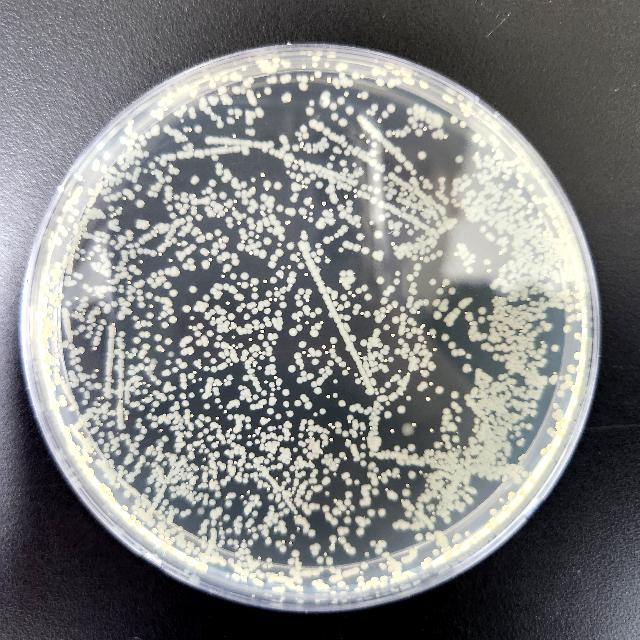colony: (402, 424, 414, 436), (212, 202, 224, 214), (318, 98, 332, 108), (432, 114, 443, 126), (170, 266, 180, 278), (314, 220, 326, 230), (210, 508, 220, 520), (290, 182, 302, 192), (157, 521, 167, 531), (279, 134, 289, 144), (52, 268, 62, 278), (140, 220, 150, 230), (320, 90, 330, 100), (371, 66, 381, 76), (371, 130, 381, 140), (281, 93, 291, 103), (452, 532, 462, 542), (345, 106, 355, 116), (462, 363, 472, 373), (386, 103, 396, 113), (417, 150, 427, 160), (274, 248, 284, 258), (228, 284, 238, 294), (432, 310, 442, 320), (321, 476, 331, 486), (228, 72, 238, 82), (361, 247, 372, 256), (553, 409, 563, 418), (248, 96, 258, 105), (184, 149, 193, 159), (458, 244, 467, 254), (420, 369, 430, 378), (464, 312, 474, 321), (478, 306, 487, 316), (196, 234, 206, 243), (198, 102, 208, 111), (233, 293, 244, 301), (324, 188, 336, 195), (441, 414, 453, 421), (244, 116, 253, 125), (256, 109, 264, 119), (493, 122, 503, 130), (436, 538, 446, 546), (466, 214, 476, 222), (218, 86, 228, 94), (440, 333, 450, 341), (190, 176, 200, 184), (400, 522, 410, 530), (374, 252, 384, 260), (298, 83, 308, 91), (386, 491, 396, 499), (357, 150, 365, 160), (308, 120, 318, 128), (316, 122, 324, 132), (404, 162, 414, 170), (374, 230, 384, 238), (373, 172, 381, 182), (402, 499, 410, 509), (544, 322, 552, 332), (369, 148, 377, 158), (566, 365, 576, 373), (338, 118, 348, 126), (136, 200, 146, 208), (366, 509, 376, 517), (414, 533, 424, 541), (472, 134, 482, 142), (240, 272, 250, 280), (182, 305, 192, 313), (262, 180, 272, 188), (296, 172, 304, 182), (289, 207, 297, 217), (298, 208, 308, 216), (286, 276, 296, 284), (288, 328, 298, 336), (200, 248, 210, 256), (202, 260, 210, 270), (237, 242, 245, 252), (259, 249, 267, 259), (226, 198, 234, 208), (302, 304, 312, 312), (339, 210, 347, 220), (352, 244, 362, 252), (356, 233, 366, 241), (342, 240, 350, 250), (380, 296, 388, 306), (438, 304, 448, 312), (221, 74, 229, 84), (215, 506, 223, 516), (446, 422, 454, 432), (330, 290, 338, 300), (157, 245, 166, 253), (409, 287, 418, 295), (433, 120, 442, 128), (398, 244, 407, 252), (448, 341, 457, 349), (378, 540, 387, 548), (419, 81, 428, 89), (352, 72, 361, 80), (306, 106, 314, 115), (54, 237, 62, 246), (402, 489, 411, 497), (204, 106, 212, 115), (329, 517, 338, 525), (301, 502, 309, 511), (443, 550, 452, 558), (272, 227, 280, 236), (466, 399, 476, 406), (162, 369, 172, 376), (338, 160, 348, 167), (173, 218, 180, 228), (330, 198, 340, 205), (166, 204, 174, 212), (441, 298, 449, 306), (490, 329, 498, 337), (338, 536, 346, 544), (370, 473, 378, 481), (374, 336, 382, 344), (120, 306, 128, 314), (504, 391, 512, 399), (496, 408, 504, 416), (383, 142, 391, 150), (442, 278, 450, 286), (304, 142, 312, 150), (413, 522, 421, 530), (284, 74, 292, 82), (313, 386, 321, 394), (243, 80, 251, 88), (232, 87, 240, 95), (390, 174, 398, 182), (428, 364, 436, 372), (436, 531, 444, 539), (412, 180, 420, 188), (480, 372, 488, 380), (396, 252, 404, 260), (450, 424, 458, 432), (441, 434, 449, 442), (452, 179, 460, 187), (316, 377, 324, 385), (343, 542, 351, 550), (329, 132, 337, 140), (363, 496, 371, 504), (329, 535, 337, 543), (420, 382, 428, 390), (142, 234, 150, 242), (376, 250, 384, 258), (444, 442, 452, 450), (402, 376, 410, 384), (372, 338, 380, 346), (46, 305, 54, 313), (376, 276, 384, 284), (343, 516, 351, 524), (518, 344, 526, 352), (488, 234, 496, 242), (403, 160, 411, 168), (462, 250, 470, 258), (407, 504, 415, 512), (403, 76, 411, 84), (227, 117, 235, 125), (335, 64, 343, 72), (446, 222, 454, 230), (384, 411, 392, 419), (118, 235, 126, 243), (270, 76, 278, 84), (408, 444, 416, 452), (390, 492, 398, 500), (348, 547, 356, 555), (110, 194, 118, 202), (406, 274, 414, 282), (118, 342, 126, 350), (134, 322, 142, 330), (356, 115, 364, 123), (540, 378, 548, 386), (538, 312, 546, 320), (408, 546, 416, 554), (136, 150, 144, 158), (332, 78, 340, 86), (470, 387, 478, 395), (370, 478, 378, 486), (370, 196, 378, 204), (395, 153, 403, 161), (378, 214, 386, 222), (469, 487, 477, 495), (486, 232, 494, 240), (109, 166, 117, 174), (360, 562, 368, 570), (398, 406, 406, 414), (376, 163, 384, 171), (451, 391, 459, 399), (301, 75, 309, 83), (552, 218, 560, 226), (394, 222, 402, 230), (525, 322, 533, 330), (530, 400, 538, 408), (343, 498, 351, 506), (356, 527, 364, 535), (103, 306, 111, 314), (414, 263, 422, 271), (472, 154, 480, 162), (504, 362, 512, 370), (129, 264, 137, 272), (393, 374, 401, 382), (176, 110, 184, 118), (194, 125, 202, 133), (436, 386, 444, 394), (419, 106, 427, 114), (151, 128, 159, 136), (388, 172, 396, 180), (490, 281, 498, 289), (556, 302, 564, 310), (469, 190, 477, 198), (94, 382, 102, 390), (443, 516, 451, 524), (322, 128, 330, 136), (416, 502, 424, 510), (117, 313, 125, 321), (122, 188, 130, 196), (369, 159, 377, 167), (150, 110, 158, 118), (168, 153, 176, 161), (400, 130, 408, 138), (409, 176, 417, 184), (134, 268, 142, 276), (398, 155, 406, 163), (408, 471, 416, 479), (177, 151, 185, 159), (345, 490, 353, 498), (100, 285, 108, 293), (375, 316, 383, 324), (337, 97, 345, 105), (404, 510, 412, 518), (438, 176, 446, 184), (489, 134, 497, 142), (329, 103, 337, 111), (331, 113, 339, 121), (133, 336, 141, 344), (387, 80, 395, 88), (563, 325, 571, 333), (361, 91, 369, 99), (394, 165, 402, 173), (378, 508, 386, 516), (478, 139, 486, 147), (551, 344, 559, 352), (381, 111, 389, 119), (376, 78, 384, 86), (134, 184, 142, 192), (415, 129, 423, 137), (455, 155, 463, 163), (450, 116, 458, 124), (209, 179, 217, 187), (210, 193, 218, 201), (219, 192, 227, 200), (230, 272, 238, 280), (189, 285, 197, 293), (244, 110, 252, 118), (248, 129, 256, 137), (292, 144, 300, 152), (215, 162, 223, 170), (221, 176, 229, 184), (234, 190, 242, 198), (241, 198, 249, 206), (247, 206, 255, 214), (232, 210, 240, 218), (235, 213, 243, 221), (226, 216, 234, 224), (174, 202, 182, 210), (206, 232, 214, 240), (212, 242, 220, 250), (211, 248, 219, 256), (188, 264, 196, 272), (219, 242, 227, 250), (232, 258, 240, 266), (224, 264, 232, 272), (251, 278, 259, 286), (170, 289, 178, 297), (164, 281, 172, 289), (270, 276, 278, 284), (260, 194, 268, 202), (274, 182, 282, 190), (276, 204, 284, 212), (290, 196, 298, 204), (304, 198, 312, 206), (264, 237, 272, 245), (286, 242, 294, 250), (290, 253, 298, 261), (222, 252, 230, 260), (270, 254, 278, 262), (268, 261, 276, 269), (255, 226, 263, 234), (278, 234, 286, 242), (184, 247, 192, 255), (190, 198, 198, 206), (267, 202, 275, 210), (252, 202, 260, 210), (228, 313, 236, 321), (230, 322, 238, 330), (194, 330, 202, 338), (291, 312, 299, 320), (314, 322, 322, 330), (310, 329, 318, 337), (299, 340, 307, 348), (157, 269, 165, 277), (150, 282, 158, 290), (154, 334, 162, 342), (180, 382, 188, 390), (180, 348, 188, 356), (187, 346, 195, 354), (207, 376, 215, 384), (242, 374, 250, 382), (169, 315, 177, 323), (152, 400, 160, 408), (156, 392, 164, 400), (282, 388, 290, 396), (210, 421, 218, 429), (215, 378, 223, 386), (286, 410, 294, 418), (288, 365, 296, 373), (307, 372, 315, 380), (305, 401, 313, 409), (294, 352, 302, 360), (312, 358, 320, 366), (248, 372, 256, 380), (214, 490, 222, 498), (314, 256, 322, 264), (316, 248, 324, 256), (316, 181, 324, 189), (306, 166, 314, 174), (346, 206, 354, 214), (337, 204, 345, 212), (326, 162, 334, 170), (353, 214, 361, 222), (321, 209, 329, 217), (328, 218, 336, 226), (341, 225, 349, 233), (337, 229, 345, 237), (323, 236, 331, 244), (391, 300, 399, 308), (322, 504, 330, 512), (339, 269, 347, 277), (347, 269, 355, 277), (316, 556, 324, 564), (328, 566, 336, 574), (312, 568, 320, 576), (339, 504, 347, 512), (308, 529, 316, 537), (292, 549, 300, 557), (314, 542, 322, 550), (311, 548, 319, 556), (356, 190, 364, 198), (252, 532, 260, 540), (198, 507, 206, 515), (238, 547, 246, 555), (162, 498, 170, 506), (308, 502, 316, 510), (448, 287, 456, 295), (501, 504, 509, 512), (540, 448, 548, 456), (278, 226, 286, 234), (314, 274, 322, 282), (235, 109, 243, 117), (339, 78, 348, 85), (400, 556, 410, 562), (210, 155, 220, 161), (199, 149, 205, 159), (288, 271, 298, 277), (205, 196, 211, 206), (178, 362, 188, 368), (332, 506, 338, 516), (326, 556, 332, 566), (420, 562, 430, 568), (230, 357, 240, 363), (272, 57, 282, 63), (442, 408, 452, 414), (440, 420, 450, 426), (326, 512, 332, 522), (156, 276, 162, 286), (78, 416, 85, 424), (226, 98, 234, 105), (156, 108, 164, 115), (414, 302, 421, 310), (404, 183, 412, 190), (115, 192, 122, 200), (152, 125, 160, 132), (430, 240, 438, 247), (399, 314, 406, 322), (489, 186, 496, 194), (389, 148, 396, 156), (497, 238, 505, 245), (108, 222, 115, 230), (439, 208, 446, 216), (454, 178, 462, 185), (448, 504, 456, 511), (125, 126, 132, 134), (78, 346, 85, 354), (464, 206, 471, 214), (442, 95, 450, 102), (389, 452, 396, 460), (428, 228, 436, 235), (419, 113, 426, 121), (534, 354, 542, 361), (450, 349, 458, 356), (480, 344, 488, 351), (72, 210, 80, 217), (516, 439, 524, 446), (159, 160, 167, 167), (349, 334, 356, 342), (349, 405, 356, 413), (78, 324, 85, 332), (128, 193, 136, 200), (564, 374, 572, 381), (360, 339, 368, 346), (494, 344, 502, 351), (484, 154, 491, 162), (163, 125, 170, 133), (338, 399, 346, 406), (492, 354, 500, 361), (479, 225, 487, 232), (459, 120, 466, 128), (205, 186, 212, 194), (224, 173, 232, 180), (218, 210, 226, 217), (195, 214, 202, 222), (222, 235, 230, 242), (214, 230, 222, 237), (179, 208, 187, 215), (170, 212, 177, 220), (186, 215, 194, 222), (188, 193, 196, 200), (203, 294, 210, 302), (248, 188, 256, 195), (268, 195, 276, 202), (248, 223, 256, 230), (246, 218, 254, 225), (240, 233, 248, 240), (250, 243, 258, 250), (210, 200, 217, 208), (273, 220, 281, 227), (300, 233, 308, 240), (198, 322, 205, 330), (206, 329, 214, 336), (188, 372, 195, 380), (185, 430, 192, 438), (182, 399, 190, 406), (180, 392, 187, 400), (213, 450, 220, 458), (210, 498, 217, 506), (180, 340, 187, 348), (300, 165, 308, 172), (345, 213, 353, 220), (344, 300, 351, 308), (434, 440, 441, 448), (344, 314, 351, 322), (210, 81, 217, 89), (352, 424, 360, 431), (202, 339, 210, 346), (388, 286, 397, 292), (338, 581, 347, 587), (102, 487, 111, 493), (484, 344, 491, 351), (61, 399, 68, 406), (374, 188, 381, 195), (429, 253, 436, 260), (215, 170, 222, 177), (190, 243, 197, 250), (235, 183, 242, 190), (230, 434, 237, 441), (225, 499, 232, 506), (429, 278, 437, 284), (358, 452, 366, 458), (399, 325, 405, 333), (412, 204, 420, 210), (150, 272, 158, 278), (180, 510, 186, 518), (166, 194, 172, 202), (530, 369, 538, 375), (68, 247, 76, 253), (334, 136, 342, 142), (470, 438, 478, 444), (107, 360, 113, 368), (521, 222, 529, 228), (363, 156, 371, 162), (410, 524, 418, 530), (536, 388, 544, 394), (461, 198, 467, 206), (396, 388, 404, 394), (150, 422, 158, 428), (371, 360, 377, 368), (508, 225, 514, 233), (283, 62, 291, 68), (410, 365, 418, 371), (144, 398, 152, 404), (338, 528, 344, 536), (352, 567, 360, 573), (406, 318, 414, 324), (468, 329, 476, 335), (496, 324, 502, 332), (508, 492, 516, 498), (376, 452, 382, 460), (47, 329, 53, 337), (334, 422, 342, 428), (334, 356, 342, 362), (82, 232, 90, 238), (329, 338, 337, 344), (342, 81, 348, 89), (520, 220, 526, 228), (67, 244, 73, 252), (382, 290, 390, 296), (482, 215, 490, 221), (396, 520, 404, 526), (216, 122, 224, 128), (432, 300, 440, 306), (360, 284, 368, 290), (459, 102, 465, 110), (396, 459, 404, 465), (280, 75, 286, 83), (424, 496, 430, 504), (496, 452, 504, 458), (180, 136, 188, 142), (462, 478, 470, 484), (146, 312, 154, 318), (69, 394, 75, 402), (145, 292, 153, 298), (64, 318, 70, 326), (570, 385, 578, 391), (157, 170, 163, 178), (74, 365, 82, 371), (138, 352, 144, 360), (106, 352, 114, 358), (108, 325, 116, 331), (126, 147, 134, 153), (576, 366, 584, 372), (408, 364, 414, 372), (100, 254, 106, 262), (140, 494, 148, 500), (332, 147, 340, 153), (468, 436, 476, 442), (546, 428, 554, 434), (438, 128, 444, 136), (103, 262, 111, 268), (412, 270, 420, 276), (164, 192, 172, 198), (566, 304, 572, 312), (462, 494, 470, 500), (528, 350, 536, 356), (119, 296, 125, 304), (468, 254, 476, 260), (90, 196, 96, 204), (498, 267, 506, 273), (342, 472, 348, 480), (500, 280, 508, 286), (366, 388, 374, 394), (395, 130, 401, 138), (138, 302, 146, 308), (418, 521, 426, 527), (488, 336, 496, 342), (136, 222, 142, 230), (466, 178, 472, 186), (342, 430, 348, 438), (164, 186, 172, 192), (384, 212, 392, 218), (392, 316, 398, 324), (104, 270, 110, 278), (524, 166, 530, 174), (118, 424, 126, 430), (134, 167, 142, 173), (180, 105, 188, 111), (160, 154, 168, 160), (146, 278, 154, 284), (550, 377, 556, 385), (80, 302, 88, 308), (522, 402, 530, 408), (263, 88, 271, 94), (69, 405, 77, 411), (545, 198, 551, 206), (120, 250, 128, 256), (375, 548, 383, 554), (566, 381, 574, 387), (108, 331, 116, 337), (359, 499, 365, 507), (392, 468, 400, 474), (358, 521, 366, 527), (466, 498, 474, 504), (382, 552, 390, 558), (450, 402, 458, 408), (576, 313, 582, 321), (299, 126, 307, 132), (314, 72, 322, 78), (378, 200, 384, 208), (340, 142, 348, 148), (538, 348, 546, 354), (371, 378, 377, 386), (458, 348, 464, 356), (492, 140, 500, 146), (554, 262, 562, 268), (362, 490, 370, 496), (143, 344, 151, 350), (392, 230, 400, 236), (524, 378, 532, 384), (510, 378, 518, 384), (408, 228, 414, 236), (552, 403, 560, 409), (116, 336, 124, 342), (574, 352, 580, 360), (536, 326, 544, 332), (574, 332, 580, 340), (452, 436, 460, 442), (120, 136, 126, 144), (354, 378, 362, 384), (486, 346, 494, 352), (392, 522, 400, 528), (483, 259, 491, 265), (132, 132, 138, 140), (140, 140, 148, 146), (144, 132, 152, 138), (371, 104, 379, 110), (422, 179, 430, 185), (104, 152, 110, 160), (412, 122, 418, 130), (466, 266, 472, 274), (148, 162, 156, 168), (478, 316, 484, 324), (408, 116, 414, 124), (436, 250, 444, 256), (406, 108, 414, 114), (252, 292, 258, 300), (241, 282, 249, 288), (222, 284, 230, 290), (236, 306, 244, 312), (246, 302, 252, 310), (210, 288, 218, 294), (251, 111, 257, 119), (268, 141, 274, 149), (269, 148, 275, 156), (274, 150, 280, 158), (284, 143, 290, 151), (240, 182, 248, 188), (226, 223, 234, 229), (204, 206, 212, 212), (190, 210, 198, 216), (183, 262, 189, 270), (232, 252, 238, 260), (266, 290, 272, 298), (214, 284, 222, 290), (214, 290, 222, 296), (260, 204, 266, 212), (186, 222, 194, 228), (180, 218, 186, 226), (182, 240, 188, 248), (194, 150, 200, 158), (290, 172, 296, 180), (274, 290, 280, 298), (279, 302, 287, 308), (274, 310, 282, 316), (295, 300, 303, 306), (306, 288, 312, 296), (296, 324, 302, 332), (193, 304, 199, 312), (202, 302, 210, 308), (216, 256, 222, 264), (256, 240, 262, 248), (253, 248, 259, 256), (245, 244, 251, 252), (276, 270, 284, 276), (256, 220, 264, 226), (180, 230, 186, 238), (184, 227, 192, 233), (201, 197, 207, 205), (180, 192, 188, 198), (183, 196, 189, 204), (262, 217, 270, 223), (269, 214, 277, 220), (310, 252, 318, 258), (298, 262, 304, 270), (231, 177, 239, 183), (230, 182, 236, 190), (265, 321, 273, 327), (245, 324, 253, 330), (214, 305, 222, 311), (216, 318, 224, 324), (216, 335, 224, 341), (221, 308, 227, 316), (262, 341, 270, 347), (265, 346, 273, 352), (160, 276, 168, 282), (165, 268, 171, 276), (172, 367, 180, 373), (150, 375, 158, 381), (150, 358, 158, 364), (226, 375, 234, 381), (210, 366, 218, 372), (240, 355, 248, 361), (260, 390, 268, 396), (234, 398, 240, 406), (247, 368, 255, 374), (244, 359, 252, 365), (212, 387, 220, 393), (161, 322, 169, 328), (160, 312, 168, 318), (166, 308, 174, 314), (162, 305, 170, 311), (160, 297, 166, 305), (283, 400, 289, 408), (260, 419, 268, 425), (244, 416, 252, 422), (173, 410, 179, 418), (166, 414, 174, 420), (159, 415, 167, 421), (294, 400, 302, 406), (207, 434, 213, 442), (249, 346, 255, 354), (300, 371, 308, 377), (297, 376, 303, 384), (302, 396, 310, 402), (296, 358, 302, 366), (311, 380, 317, 388), (252, 381, 260, 387), (200, 335, 208, 341), (216, 328, 224, 334), (264, 299, 270, 307), (254, 346, 262, 352), (267, 333, 273, 341), (276, 378, 282, 386), (269, 396, 277, 402), (213, 96, 219, 104), (209, 100, 217, 106), (345, 200, 353, 206), (284, 162, 292, 168), (326, 212, 334, 218), (318, 216, 324, 224), (324, 216, 330, 224), (326, 286, 332, 294), (364, 294, 372, 300), (353, 304, 361, 310), (340, 294, 348, 300), (344, 440, 352, 446), (338, 452, 346, 458), (348, 242, 354, 250), (417, 384, 423, 392), (328, 544, 336, 550), (380, 575, 388, 581), (371, 576, 379, 582), (353, 456, 361, 462), (287, 558, 295, 564), (230, 352, 238, 358), (214, 74, 220, 82), (183, 84, 191, 90), (247, 538, 253, 546), (223, 514, 231, 520), (221, 478, 227, 486), (210, 520, 218, 526), (186, 508, 192, 516), (268, 492, 274, 500), (170, 492, 178, 498), (200, 522, 208, 528), (200, 527, 208, 533), (266, 521, 274, 527), (245, 548, 251, 556), (240, 542, 248, 548), (279, 546, 287, 552), (276, 540, 282, 548), (304, 509, 312, 515), (272, 516, 278, 524), (281, 526, 287, 534), (277, 525, 285, 531), (262, 528, 270, 534), (277, 434, 283, 442), (436, 288, 444, 294), (410, 282, 418, 288), (412, 348, 420, 354), (446, 321, 454, 327), (453, 308, 461, 314), (422, 454, 430, 460), (418, 460, 426, 466), (303, 522, 311, 528), (418, 298, 424, 306), (517, 488, 523, 496), (402, 570, 410, 576), (288, 583, 296, 589), (550, 430, 556, 438), (258, 572, 266, 578), (40, 304, 46, 312), (272, 63, 280, 69), (236, 74, 242, 82), (343, 322, 349, 330), (316, 280, 324, 286), (234, 528, 242, 534), (249, 573, 257, 579), (409, 308, 416, 314), (439, 426, 446, 432), (379, 563, 386, 569), (394, 278, 401, 284), (146, 233, 152, 240), (414, 243, 421, 249), (52, 358, 59, 364), (484, 408, 491, 414), (494, 474, 501, 480), (518, 240, 524, 247), (94, 245, 100, 252), (95, 310, 102, 316), (489, 508, 496, 514), (474, 215, 481, 221), (140, 349, 146, 356), (531, 409, 537, 416), (139, 364, 145, 371), (379, 307, 386, 313), (88, 384, 95, 390), (190, 113, 197, 119), (476, 334, 482, 341), (386, 469, 392, 476), (374, 416, 381, 422), (124, 489, 130, 496), (379, 388, 386, 394), (408, 78, 414, 85), (384, 203, 391, 209), (228, 109, 235, 115), (469, 336, 476, 342), (474, 418, 481, 424), (424, 256, 431, 262), (367, 185, 373, 192), (359, 460, 366, 466), (126, 173, 132, 180), (558, 389, 564, 396), (54, 262, 61, 268), (439, 193, 445, 200), (451, 190, 457, 197), (138, 238, 144, 245), (528, 183, 534, 190), (374, 310, 381, 316), (369, 540, 376, 546), (165, 176, 172, 182), (98, 301, 105, 307), (115, 226, 122, 232), (443, 198, 449, 205), (374, 328, 381, 334), (384, 324, 391, 330), (396, 78, 402, 85), (386, 193, 392, 200), (211, 115, 217, 122), (223, 169, 230, 175), (173, 194, 180, 200), (188, 258, 195, 264), (213, 294, 220, 300), (240, 228, 247, 234), (171, 238, 177, 245), (292, 163, 298, 170), (304, 178, 310, 185), (310, 173, 316, 180), (284, 208, 290, 215), (200, 307, 207, 313), (192, 230, 198, 237), (250, 200, 256, 207), (243, 314, 250, 320), (316, 349, 322, 356), (165, 338, 172, 344), (168, 351, 175, 357), (150, 364, 156, 371), (203, 352, 210, 358), (203, 366, 210, 372), (198, 414, 205, 420), (180, 372, 187, 378), (242, 349, 248, 356), (196, 339, 202, 346), (245, 440, 252, 446), (210, 462, 217, 468), (200, 96, 207, 102), (334, 457, 341, 463), (336, 499, 342, 506), (361, 183, 367, 190), (248, 78, 255, 84), (225, 528, 232, 534), (170, 486, 177, 492), (353, 180, 359, 187), (342, 183, 348, 190), (233, 444, 240, 450), (454, 544, 461, 550), (422, 349, 428, 356), (187, 444, 193, 451), (232, 428, 242, 432), (502, 476, 508, 482), (412, 453, 418, 459), (490, 455, 496, 461), (358, 170, 364, 176), (101, 253, 107, 259), (100, 268, 106, 274), (447, 485, 453, 491), (528, 384, 534, 390), (369, 451, 375, 457), (415, 115, 421, 121), (544, 252, 550, 258), (363, 362, 369, 368), (371, 425, 377, 431), (510, 330, 516, 336), (531, 366, 537, 372), (105, 304, 111, 310), (393, 208, 399, 214), (503, 354, 509, 360), (124, 308, 130, 314), (386, 304, 392, 310), (74, 349, 80, 355), (495, 222, 501, 228), (508, 208, 514, 214), (514, 292, 520, 298), (519, 364, 525, 370), (528, 362, 534, 368), (478, 335, 484, 341), (423, 300, 429, 306), (118, 352, 124, 358), (91, 262, 97, 268), (353, 355, 359, 361), (154, 169, 160, 175), (437, 134, 443, 140), (322, 373, 328, 379), (152, 502, 158, 508), (54, 372, 60, 378), (124, 302, 130, 308), (368, 431, 374, 437), (146, 370, 152, 376), (465, 198, 471, 204), (55, 301, 61, 307), (485, 175, 491, 181), (125, 392, 131, 398), (498, 393, 504, 399), (526, 408, 532, 414), (358, 576, 364, 582), (336, 428, 342, 434), (521, 411, 527, 417), (402, 448, 408, 454), (452, 182, 458, 188), (512, 296, 518, 302), (489, 210, 495, 216), (152, 415, 158, 421), (120, 273, 126, 279), (55, 353, 61, 359), (66, 325, 72, 331), (377, 354, 383, 360), (352, 432, 358, 438), (496, 460, 502, 466), (526, 332, 532, 338), (135, 520, 141, 526), (479, 190, 485, 196), (64, 281, 70, 287), (334, 84, 340, 90), (461, 254, 467, 260), (130, 287, 136, 293), (346, 346, 352, 352), (412, 196, 418, 202), (570, 314, 576, 320), (426, 478, 432, 484), (70, 352, 76, 358), (537, 384, 543, 390), (538, 386, 544, 392), (512, 202, 518, 208), (168, 168, 174, 174), (121, 266, 127, 272), (137, 462, 143, 468), (340, 362, 346, 368), (152, 528, 158, 534), (118, 373, 124, 379), (474, 151, 480, 157), (319, 368, 325, 374), (351, 349, 357, 355), (398, 192, 404, 198), (535, 228, 541, 234), (460, 501, 466, 507), (64, 427, 70, 433), (327, 360, 333, 366), (140, 456, 146, 462), (110, 446, 116, 452), (134, 436, 140, 442), (372, 332, 378, 338), (138, 434, 144, 440), (545, 207, 551, 213), (342, 64, 348, 70), (464, 394, 470, 400), (173, 168, 179, 174), (350, 504, 356, 510), (392, 177, 398, 183), (513, 390, 519, 396), (430, 535, 436, 541), (458, 490, 464, 496), (413, 104, 419, 110), (426, 532, 432, 538), (81, 375, 87, 381), (312, 56, 318, 62), (296, 75, 302, 81), (150, 250, 156, 256), (134, 282, 140, 288), (486, 474, 492, 480), (493, 154, 499, 160), (435, 510, 441, 516), (370, 462, 376, 468), (380, 349, 386, 355), (522, 471, 528, 477), (438, 227, 444, 233), (132, 504, 138, 510), (504, 440, 510, 446), (77, 187, 83, 193), (493, 308, 499, 314), (538, 361, 544, 367), (63, 312, 69, 318), (406, 252, 412, 258), (44, 317, 50, 323), (54, 402, 60, 408), (117, 406, 123, 412), (490, 460, 496, 466), (96, 459, 102, 465), (400, 350, 406, 356), (452, 218, 458, 224), (460, 106, 466, 112), (133, 450, 139, 456), (444, 510, 450, 516), (344, 528, 350, 534), (368, 353, 374, 359), (406, 72, 412, 78), (394, 270, 400, 276), (466, 191, 472, 197), (105, 382, 111, 388), (118, 242, 124, 248), (550, 302, 556, 308), (392, 244, 398, 250), (506, 338, 512, 344), (473, 424, 479, 430), (496, 160, 502, 166), (128, 370, 134, 376), (82, 226, 88, 232), (318, 146, 324, 152), (303, 133, 309, 139), (324, 62, 330, 68), (534, 394, 540, 400), (388, 224, 394, 230), (54, 279, 60, 285), (84, 394, 90, 400), (382, 349, 388, 355), (478, 472, 484, 478), (106, 422, 112, 428), (524, 394, 530, 400), (107, 394, 113, 400), (493, 171, 499, 177), (96, 262, 102, 268), (348, 428, 354, 434), (126, 290, 132, 296), (90, 214, 96, 220), (508, 216, 514, 222), (412, 218, 418, 224), (104, 442, 110, 448), (92, 208, 98, 214), (114, 278, 120, 284), (492, 382, 498, 388), (130, 514, 136, 520), (128, 477, 134, 483), (475, 380, 481, 386), (114, 364, 120, 370), (432, 549, 438, 555), (72, 382, 78, 388), (156, 173, 162, 179), (73, 198, 79, 204), (168, 130, 174, 136), (71, 280, 77, 286), (312, 62, 318, 68), (464, 530, 470, 536), (384, 381, 390, 387), (76, 422, 82, 428), (114, 436, 120, 442), (406, 332, 412, 338), (96, 182, 102, 188), (122, 272, 128, 278), (476, 163, 482, 169), (408, 186, 414, 192), (418, 200, 424, 206), (66, 200, 72, 206), (106, 370, 112, 376), (388, 220, 394, 226), (141, 320, 147, 326), (326, 369, 332, 375), (564, 290, 570, 296), (524, 245, 530, 251), (398, 330, 404, 336), (508, 370, 514, 376), (84, 391, 90, 397), (356, 516, 362, 522), (450, 198, 456, 204), (453, 494, 459, 500), (65, 276, 71, 282), (130, 402, 136, 408), (434, 204, 440, 210), (398, 380, 404, 386), (541, 358, 547, 364), (543, 197, 549, 203), (426, 111, 432, 117), (94, 160, 100, 166), (373, 366, 379, 372), (126, 380, 132, 386), (503, 346, 509, 352), (62, 206, 68, 212), (487, 376, 493, 382), (378, 136, 384, 142), (424, 488, 430, 494), (484, 382, 490, 388), (516, 213, 522, 219), (388, 188, 394, 194), (417, 329, 423, 335), (403, 342, 409, 348), (458, 506, 464, 512), (91, 428, 97, 434), (455, 416, 461, 422), (92, 340, 98, 346), (139, 280, 145, 286), (476, 173, 482, 179), (538, 254, 544, 260), (101, 167, 107, 173), (428, 523, 434, 529), (355, 146, 361, 152), (366, 484, 372, 490), (400, 206, 406, 212), (417, 496, 423, 502), (188, 143, 194, 149), (538, 218, 544, 224), (486, 314, 492, 320), (581, 307, 587, 313), (454, 501, 460, 507), (94, 336, 100, 342), (116, 209, 122, 215), (104, 472, 110, 478), (86, 381, 92, 387), (141, 428, 147, 434), (488, 220, 494, 226), (508, 273, 514, 279), (397, 178, 403, 184), (347, 414, 353, 420), (519, 210, 525, 216), (134, 382, 140, 388), (82, 283, 88, 289), (157, 115, 163, 121), (108, 286, 114, 292), (567, 316, 573, 322), (134, 442, 140, 448), (144, 366, 150, 372), (324, 143, 330, 149), (85, 422, 91, 428), (126, 309, 132, 315), (127, 236, 133, 242), (429, 504, 435, 510), (380, 472, 386, 478), (567, 297, 573, 303), (93, 164, 99, 170), (411, 327, 417, 333), (528, 343, 534, 349), (156, 183, 162, 189), (98, 438, 104, 444), (436, 504, 442, 510), (355, 404, 361, 410), (339, 72, 345, 78), (77, 366, 83, 372), (502, 192, 508, 198), (418, 336, 424, 342), (520, 370, 526, 376), (84, 208, 90, 214), (352, 150, 358, 156), (144, 332, 150, 338), (151, 185, 157, 191), (132, 347, 138, 353), (406, 127, 412, 133), (309, 100, 315, 106), (348, 80, 354, 86), (364, 311, 370, 317), (456, 407, 462, 413), (94, 230, 100, 236), (344, 150, 350, 156), (365, 518, 371, 524), (388, 181, 394, 187), (102, 414, 108, 420), (382, 366, 388, 372), (536, 198, 542, 204), (367, 472, 373, 478), (476, 368, 482, 374), (420, 234, 426, 240), (342, 370, 348, 376), (144, 357, 150, 363), (508, 260, 514, 266), (400, 186, 406, 192), (358, 408, 364, 414), (59, 226, 65, 232), (402, 353, 408, 359), (394, 445, 400, 451), (134, 400, 140, 406), (113, 219, 119, 225), (514, 158, 520, 164), (118, 159, 124, 165), (128, 139, 134, 145), (528, 216, 534, 222), (126, 230, 132, 236), (110, 410, 116, 416), (119, 172, 125, 178), (517, 166, 523, 172), (110, 420, 116, 426), (66, 269, 72, 275), (83, 296, 89, 302), (138, 296, 144, 302), (435, 190, 441, 196), (560, 384, 566, 390), (368, 336, 374, 342), (128, 295, 134, 301), (134, 242, 140, 248), (104, 452, 110, 458), (159, 178, 165, 184), (59, 394, 65, 400), (130, 386, 136, 392), (372, 488, 378, 494), (396, 197, 402, 203), (189, 107, 195, 113), (381, 70, 387, 76), (105, 376, 111, 382), (414, 224, 420, 230), (463, 260, 469, 266), (121, 165, 127, 171), (144, 248, 150, 254), (498, 153, 504, 159), (526, 208, 532, 214), (501, 287, 507, 293), (137, 248, 143, 254), (88, 188, 94, 194), (532, 330, 538, 336), (430, 516, 436, 522), (346, 478, 352, 484), (440, 185, 446, 191), (63, 341, 69, 347), (154, 156, 160, 162), (364, 409, 370, 415), (132, 177, 138, 183), (104, 196, 110, 202), (412, 255, 418, 261), (531, 195, 537, 201), (384, 344, 390, 350), (448, 98, 454, 104), (426, 118, 432, 124), (508, 188, 514, 194), (102, 238, 108, 244), (115, 482, 121, 488), (382, 477, 388, 483), (394, 70, 400, 76), (428, 124, 434, 130), (462, 174, 468, 180), (135, 160, 141, 166), (436, 221, 442, 227), (66, 300, 72, 306), (112, 301, 118, 307), (540, 320, 546, 326), (139, 405, 145, 411), (69, 370, 75, 376), (395, 147, 401, 153), (398, 338, 404, 344), (464, 111, 470, 117), (68, 216, 74, 222), (110, 240, 116, 246), (332, 392, 338, 398), (109, 252, 115, 258), (537, 211, 543, 217), (386, 130, 392, 136), (492, 202, 498, 208), (518, 182, 524, 188), (78, 274, 84, 280), (148, 191, 154, 197), (98, 325, 104, 331), (526, 423, 532, 429), (411, 170, 417, 176), (144, 151, 150, 157), (100, 319, 106, 325), (139, 135, 145, 141), (528, 202, 534, 208), (74, 330, 80, 336), (76, 357, 82, 363), (371, 142, 377, 148), (394, 348, 400, 354), (499, 356, 505, 362), (388, 356, 394, 362), (498, 374, 504, 380), (68, 343, 74, 349), (80, 248, 86, 254), (432, 132, 438, 138), (204, 403, 210, 409), (215, 398, 221, 404), (241, 303, 247, 309), (251, 302, 257, 308), (252, 308, 258, 314), (216, 115, 222, 121), (242, 213, 248, 219), (184, 204, 190, 210), (252, 286, 258, 292), (246, 192, 252, 198), (267, 208, 273, 214), (248, 231, 254, 237), (308, 217, 314, 223), (293, 192, 299, 198), (267, 227, 273, 233), (286, 286, 292, 292), (280, 288, 286, 294), (264, 308, 270, 314), (304, 294, 310, 300), (298, 288, 304, 294), (294, 294, 300, 300), (297, 311, 303, 317), (178, 256, 184, 262), (181, 251, 187, 257), (150, 230, 156, 236), (166, 241, 172, 247), (165, 234, 171, 240), (260, 211, 266, 217), (264, 221, 270, 227), (270, 219, 276, 225), (316, 243, 322, 249), (264, 200, 270, 206), (264, 316, 270, 322), (259, 323, 265, 329), (258, 334, 264, 340), (238, 342, 244, 348), (236, 326, 242, 332), (210, 309, 216, 315), (192, 326, 198, 332), (220, 315, 226, 321), (210, 320, 216, 326), (216, 308, 222, 314), (277, 325, 283, 331), (310, 312, 316, 318), (316, 308, 322, 314), (277, 316, 283, 322), (252, 352, 258, 358), (270, 356, 276, 362), (308, 347, 314, 353), (311, 351, 317, 357), (154, 296, 160, 302), (156, 345, 162, 351), (166, 360, 172, 366), (176, 358, 182, 364), (155, 380, 161, 386), (211, 358, 217, 364), (226, 358, 232, 364), (214, 342, 220, 348), (205, 416, 211, 422), (254, 438, 260, 444), (189, 392, 195, 398), (185, 408, 191, 414), (169, 406, 175, 412), (169, 394, 175, 400), (161, 396, 167, 402), (163, 386, 169, 392), (168, 385, 174, 391), (195, 362, 201, 368), (249, 356, 255, 362), (253, 394, 259, 400), (226, 404, 232, 410), (229, 401, 235, 407), (250, 404, 256, 410), (269, 382, 275, 388), (256, 386, 262, 392), (202, 394, 208, 400), (275, 414, 281, 420), (245, 423, 251, 429), (240, 414, 246, 420), (234, 413, 240, 419), (227, 414, 233, 420), (198, 422, 204, 428), (203, 428, 209, 434), (198, 432, 204, 438), (173, 419, 179, 425), (174, 424, 180, 430), (180, 424, 186, 430), (157, 418, 163, 424), (268, 408, 274, 414), (267, 426, 273, 432), (231, 442, 237, 448), (302, 376, 308, 382), (320, 408, 326, 414), (300, 394, 306, 400), (271, 369, 277, 375), (264, 370, 270, 376), (270, 364, 276, 370), (329, 348, 335, 354), (330, 353, 336, 359), (252, 376, 258, 382), (264, 458, 270, 464), (249, 452, 255, 458), (216, 460, 222, 466), (204, 448, 210, 454), (212, 442, 218, 448), (208, 452, 214, 458), (212, 469, 218, 475), (225, 475, 231, 481), (324, 490, 330, 496), (224, 320, 230, 326), (258, 301, 264, 307), (258, 306, 264, 312), (262, 399, 268, 405), (258, 400, 264, 406), (269, 400, 275, 406), (325, 258, 331, 264), (338, 247, 344, 253), (208, 96, 214, 102), (266, 78, 272, 84), (318, 172, 324, 178), (322, 174, 328, 180), (336, 184, 342, 190), (330, 155, 336, 161), (312, 148, 318, 154), (306, 148, 312, 154), (368, 220, 374, 226), (333, 232, 339, 238), (356, 288, 362, 294), (400, 306, 406, 312), (408, 296, 414, 302), (406, 302, 412, 308), (338, 304, 344, 310), (333, 301, 339, 307), (328, 312, 334, 318), (362, 356, 368, 362), (323, 468, 329, 474), (312, 468, 318, 474), (310, 472, 316, 478), (302, 448, 308, 454), (305, 495, 311, 501), (360, 443, 366, 449), (308, 419, 314, 425), (428, 360, 434, 366), (306, 452, 312, 458), (301, 442, 307, 448), (298, 440, 304, 446), (298, 432, 304, 438), (322, 440, 328, 446), (322, 428, 328, 434), (317, 427, 323, 433), (318, 566, 324, 572), (387, 566, 393, 572), (412, 516, 418, 522), (366, 580, 372, 586), (336, 568, 342, 574), (312, 580, 318, 586), (317, 578, 323, 584), (296, 585, 302, 591), (328, 456, 334, 462), (286, 477, 292, 483), (300, 483, 306, 489), (230, 348, 236, 354), (361, 192, 367, 198), (240, 88, 246, 94), (88, 233, 94, 239), (108, 181, 114, 187), (162, 436, 168, 442), (220, 534, 226, 540), (233, 539, 239, 545), (227, 538, 233, 544), (237, 515, 243, 521), (251, 526, 257, 532), (252, 510, 258, 516), (266, 434, 272, 440), (277, 463, 283, 469), (270, 464, 276, 470), (255, 494, 261, 500), (227, 492, 233, 498), (174, 507, 180, 513), (290, 534, 296, 540), (202, 500, 208, 506), (215, 485, 221, 491), (204, 518, 210, 524), (219, 530, 225, 536), (257, 501, 263, 507), (269, 505, 275, 511), (276, 492, 282, 498), (262, 482, 268, 488), (283, 508, 289, 514), (228, 558, 234, 564), (155, 482, 161, 488), (347, 218, 353, 224), (300, 470, 306, 476), (312, 478, 318, 484), (303, 528, 309, 534), (274, 512, 280, 518), (278, 519, 284, 525), (248, 518, 254, 524), (245, 522, 251, 528), (258, 524, 264, 530), (224, 449, 230, 455), (384, 454, 390, 460), (185, 548, 191, 554), (170, 536, 176, 542), (158, 534, 164, 540), (162, 460, 168, 466), (186, 466, 192, 472), (193, 466, 199, 472), (190, 454, 196, 460), (287, 423, 293, 429), (421, 344, 427, 350), (412, 248, 418, 254), (428, 450, 434, 456), (424, 448, 430, 454), (419, 456, 425, 462), (352, 418, 358, 424), (546, 444, 552, 450), (556, 425, 562, 431), (574, 285, 580, 291), (581, 322, 587, 328), (255, 569, 261, 575), (243, 562, 249, 568), (171, 528, 177, 534), (109, 496, 115, 502), (54, 406, 60, 412), (151, 450, 157, 456), (156, 438, 162, 444), (166, 452, 172, 458), (76, 306, 82, 312), (418, 350, 424, 356), (408, 356, 414, 362), (408, 454, 414, 460), (406, 459, 412, 465), (486, 522, 492, 528), (178, 526, 184, 532), (48, 297, 54, 303), (192, 441, 198, 447), (175, 414, 181, 420), (254, 428, 260, 434), (272, 488, 278, 494), (245, 463, 251, 469), (284, 471, 290, 477), (264, 516, 270, 522), (268, 510, 274, 516), (237, 522, 243, 528), (52, 335, 58, 341), (327, 56, 338, 59), (94, 190, 98, 198), (320, 138, 328, 142), (420, 364, 428, 368), (402, 348, 410, 352), (152, 390, 160, 394), (126, 244, 134, 248), (456, 96, 464, 100), (460, 184, 464, 192), (58, 216, 62, 224), (488, 328, 496, 332), (208, 210, 212, 218), (212, 210, 216, 218), (160, 243, 168, 247), (197, 198, 201, 206), (180, 378, 188, 382), (424, 558, 432, 562), (342, 168, 350, 172), (176, 88, 184, 92), (282, 520, 286, 528), (235, 424, 243, 428), (344, 286, 352, 290), (434, 450, 442, 454), (380, 581, 388, 585), (330, 590, 338, 594), (306, 52, 314, 56), (298, 51, 306, 55), (68, 190, 72, 198), (329, 194, 337, 198), (386, 66, 394, 70), (476, 374, 480, 381), (108, 280, 115, 284), (499, 344, 506, 348), (120, 434, 124, 441), (118, 332, 125, 336), (193, 228, 200, 232), (173, 406, 180, 410), (188, 422, 195, 426), (382, 449, 386, 456), (235, 420, 242, 424), (158, 442, 165, 446), (203, 74, 210, 78), (203, 316, 210, 320), (50, 232, 54, 238), (528, 390, 532, 396), (472, 428, 478, 432), (522, 328, 528, 332), (520, 296, 526, 300), (87, 414, 93, 418), (68, 254, 72, 260), (126, 162, 130, 168), (506, 402, 510, 408), (402, 198, 406, 204), (494, 296, 500, 300), (117, 474, 123, 478), (505, 424, 511, 428), (404, 328, 410, 332), (472, 468, 476, 474), (58, 344, 64, 348), (514, 355, 518, 361), (426, 458, 430, 464), (378, 406, 384, 410), (496, 278, 500, 284), (506, 378, 512, 382), (98, 208, 102, 214), (266, 558, 272, 562), (316, 52, 322, 56), (64, 255, 68, 261), (533, 220, 539, 224), (146, 450, 150, 456), (183, 128, 189, 132), (511, 358, 517, 362), (312, 144, 318, 148), (521, 200, 527, 204), (136, 499, 140, 505), (510, 252, 516, 256), (426, 504, 430, 510), (111, 388, 115, 394), (414, 344, 420, 348), (425, 230, 429, 236), (124, 434, 130, 438), (430, 464, 436, 468), (47, 292, 53, 296), (52, 321, 56, 327), (392, 130, 396, 136), (467, 102, 473, 106), (483, 162, 489, 166), (539, 306, 545, 310), (92, 428, 98, 432), (374, 430, 378, 436), (74, 314, 80, 318), (432, 329, 436, 335), (377, 474, 381, 480), (530, 240, 536, 244), (132, 377, 136, 383), (438, 460, 444, 464), (544, 292, 550, 296), (118, 378, 122, 384), (496, 192, 502, 196), (84, 438, 90, 442), (370, 412, 376, 416), (125, 385, 129, 391), (62, 263, 66, 269), (542, 231, 548, 235), (502, 248, 508, 252), (102, 388, 108, 392), (410, 210, 416, 214), (82, 216, 88, 220), (520, 320, 526, 324), (94, 306, 100, 310), (118, 285, 124, 289), (471, 322, 477, 326), (94, 286, 100, 290), (169, 164, 173, 170), (136, 144, 140, 150), (110, 434, 114, 440), (80, 220, 84, 226), (368, 416, 374, 420), (124, 411, 130, 415), (310, 76, 316, 80), (96, 214, 102, 218), (577, 372, 583, 376), (78, 416, 84, 420), (110, 480, 114, 486), (440, 548, 446, 552), (352, 162, 356, 168), (162, 200, 168, 204), (516, 204, 522, 208), (378, 364, 384, 368), (86, 320, 92, 324), (512, 267, 516, 273), (494, 302, 498, 308), (516, 190, 522, 194), (368, 371, 372, 377), (88, 448, 94, 452), (123, 258, 129, 262), (50, 282, 54, 288), (508, 162, 514, 166), (420, 250, 424, 256), (94, 416, 100, 420), (508, 296, 512, 302), (556, 278, 560, 284), (392, 472, 396, 478), (505, 452, 511, 456), (134, 368, 140, 372), (420, 494, 426, 498), (498, 332, 504, 336), (167, 100, 173, 104), (110, 440, 116, 444), (362, 484, 366, 490), (114, 444, 120, 448), (134, 171, 138, 177), (86, 202, 92, 206), (326, 78, 332, 82), (118, 156, 124, 160), (454, 202, 458, 208), (86, 408, 92, 412), (463, 486, 469, 490), (490, 158, 494, 164), (158, 102, 164, 106), (530, 336, 534, 342), (368, 464, 372, 470), (426, 195, 432, 199), (94, 442, 98, 448), (532, 360, 536, 366), (364, 552, 370, 556), (522, 304, 526, 310), (145, 488, 151, 492), (500, 272, 504, 278), (130, 446, 134, 452), (96, 237, 100, 243), (127, 354, 133, 358), (514, 426, 520, 430), (182, 146, 188, 150), (530, 302, 536, 306), (520, 386, 526, 390), (490, 322, 494, 328), (118, 464, 122, 470), (125, 440, 131, 444), (418, 124, 424, 128), (510, 280, 516, 284), (576, 303, 580, 309), (72, 230, 78, 234), (420, 194, 426, 198), (504, 176, 510, 180), (425, 248, 431, 252), (102, 214, 106, 220), (136, 290, 142, 294), (120, 260, 124, 266), (114, 350, 120, 354), (502, 436, 506, 442), (130, 250, 136, 254), (403, 126, 409, 130), (130, 364, 134, 370), (128, 274, 132, 280), (480, 178, 484, 184), (522, 358, 526, 364), (496, 338, 502, 342), (482, 170, 488, 174), (366, 110, 372, 114), (142, 390, 148, 394), (515, 432, 521, 436), (391, 190, 397, 194), (70, 376, 76, 380), (94, 400, 98, 406), (422, 184, 426, 190), (130, 254, 136, 258), (154, 192, 158, 198), (106, 234, 110, 240), (434, 234, 440, 238), (118, 178, 122, 184), (72, 272, 78, 276), (498, 230, 504, 234), (482, 334, 488, 338), (382, 186, 388, 190), (378, 342, 382, 348), (108, 460, 114, 464), (442, 216, 448, 220), (354, 480, 360, 484), (80, 376, 84, 382), (466, 354, 472, 358), (54, 368, 60, 372), (515, 174, 521, 178), (116, 266, 120, 272), (373, 352, 379, 356), (86, 334, 92, 338), (61, 308, 67, 312), (114, 246, 120, 250), (508, 169, 512, 175), (140, 332, 144, 338), (116, 450, 122, 454), (68, 206, 74, 210), (520, 422, 524, 428), (118, 288, 124, 292), (340, 136, 346, 140), (118, 360, 124, 364), (116, 192, 122, 196), (347, 146, 353, 150), (136, 418, 142, 422), (89, 252, 95, 256), (370, 112, 376, 116), (106, 188, 112, 192), (136, 424, 142, 428), (99, 432, 105, 436), (80, 388, 86, 392), (74, 254, 80, 258), (404, 224, 410, 228), (541, 344, 547, 348), (64, 230, 68, 236), (133, 316, 139, 320), (498, 184, 504, 188), (143, 168, 147, 174), (70, 360, 76, 364), (96, 332, 102, 336), (384, 176, 388, 182), (82, 400, 88, 404), (428, 184, 432, 190), (88, 287, 92, 293), (91, 374, 97, 378), (109, 206, 115, 210), (202, 189, 206, 195), (190, 316, 196, 320), (246, 129, 250, 135), (261, 172, 265, 178), (250, 178, 256, 182), (191, 206, 197, 210), (241, 190, 247, 194), (280, 265, 286, 269), (279, 296, 285, 300), (196, 301, 202, 305), (248, 240, 254, 244), (301, 230, 307, 234), (176, 251, 180, 257), (168, 232, 174, 236), (180, 198, 186, 202), (243, 328, 247, 334), (247, 330, 253, 334), (254, 320, 260, 324), (272, 318, 276, 324), (304, 312, 310, 316), (274, 333, 278, 339), (260, 354, 264, 360), (266, 352, 272, 356), (228, 380, 232, 386), (218, 352, 224, 356), (136, 376, 140, 382), (174, 401, 180, 405), (165, 382, 171, 386), (253, 360, 259, 364), (246, 398, 252, 402), (239, 396, 245, 400), (256, 403, 260, 409), (245, 365, 251, 369), (214, 392, 220, 396), (238, 434, 242, 440), (226, 432, 230, 438), (216, 429, 222, 433), (195, 420, 201, 424), (184, 420, 190, 424), (188, 426, 194, 430), (178, 422, 184, 426), (165, 420, 171, 424), (208, 392, 212, 398), (228, 438, 232, 444), (200, 444, 206, 448), (199, 448, 203, 454), (253, 343, 257, 349), (266, 364, 270, 370), (240, 466, 244, 472), (268, 452, 272, 458), (270, 456, 276, 460), (210, 456, 216, 460), (208, 459, 214, 463), (209, 468, 213, 474), (212, 475, 218, 479), (243, 473, 249, 477), (244, 478, 248, 484), (223, 328, 229, 332), (217, 324, 223, 328), (305, 162, 311, 166), (298, 136, 302, 142), (356, 224, 362, 228), (330, 235, 334, 241), (352, 310, 358, 314), (338, 314, 344, 318), (360, 426, 366, 430), (295, 464, 299, 470), (294, 460, 298, 466), (290, 465, 294, 471), (292, 448, 298, 452), (307, 490, 313, 494), (302, 418, 306, 424), (299, 426, 305, 430), (380, 314, 386, 318), (412, 322, 418, 326), (401, 322, 407, 326), (406, 396, 412, 400), (321, 458, 325, 464), (314, 454, 320, 458), (308, 432, 314, 436), (306, 438, 310, 444), (316, 425, 320, 431), (313, 426, 317, 432), (308, 426, 314, 430), (388, 556, 392, 562), (358, 582, 364, 586), (310, 544, 314, 550), (304, 480, 308, 486), (300, 490, 306, 494), (224, 352, 230, 356), (366, 193, 370, 199), (241, 67, 247, 71), (173, 110, 177, 116), (92, 235, 96, 241), (175, 430, 181, 434), (176, 448, 182, 452), (218, 542, 222, 548), (260, 438, 266, 442), (250, 495, 254, 501), (232, 492, 236, 498), (198, 530, 204, 534), (168, 506, 174, 510), (160, 506, 166, 510), (157, 510, 163, 514), (198, 492, 204, 496), (204, 493, 210, 497), (190, 496, 194, 502), (275, 498, 281, 502), (257, 480, 263, 484), (250, 472, 254, 478), (254, 471, 258, 477), (274, 526, 278, 532), (280, 511, 284, 517), (234, 552, 240, 556), (348, 186, 352, 192), (328, 184, 334, 188), (282, 480, 286, 486), (316, 503, 320, 509), (294, 478, 300, 482), (293, 483, 299, 487), (297, 456, 303, 460), (308, 478, 312, 484), (294, 557, 300, 561), (279, 572, 285, 576), (262, 564, 268, 568), (242, 454, 246, 460), (230, 448, 234, 454), (240, 446, 246, 450), (386, 449, 390, 455), (196, 546, 200, 552), (192, 550, 198, 554), (164, 537, 170, 541), (167, 540, 173, 544), (190, 464, 196, 468), (190, 450, 194, 456), (284, 436, 290, 440), (284, 429, 290, 433), (285, 432, 291, 436), (201, 536, 207, 540), (427, 352, 433, 356), (529, 289, 533, 295), (459, 457, 465, 461), (490, 518, 496, 522), (446, 546, 452, 550), (408, 572, 414, 576), (390, 578, 396, 582), (340, 590, 346, 594), (561, 418, 565, 424), (576, 293, 580, 299), (248, 567, 254, 571), (108, 492, 114, 496), (76, 450, 80, 456), (150, 448, 156, 452), (156, 446, 160, 452), (416, 358, 420, 364), (345, 328, 351, 332), (336, 180, 342, 184), (406, 196, 412, 200), (410, 192, 414, 198), (144, 532, 150, 536), (169, 547, 175, 551), (151, 469, 157, 473), (152, 473, 158, 477), (67, 339, 73, 343), (67, 335, 73, 339), (53, 294, 59, 298), (180, 455, 186, 459), (197, 440, 201, 446), (118, 470, 124, 474), (206, 312, 212, 316), (260, 432, 266, 436), (219, 540, 225, 544), (184, 462, 188, 468), (266, 572, 270, 578), (295, 131, 299, 137), (213, 466, 219, 469), (308, 456, 314, 459), (418, 207, 422, 211), (360, 312, 364, 316), (510, 385, 514, 389), (360, 422, 364, 426), (45, 345, 49, 349), (496, 382, 500, 386), (164, 511, 168, 515), (506, 240, 510, 244), (431, 244, 435, 248), (558, 228, 562, 232), (417, 310, 421, 314), (82, 311, 86, 315), (118, 394, 122, 398), (233, 134, 237, 138), (235, 116, 239, 120), (188, 127, 192, 131), (298, 133, 302, 137), (107, 403, 111, 407), (107, 279, 111, 283), (328, 422, 332, 426), (369, 422, 373, 426), (432, 511, 436, 515), (508, 426, 512, 430), (430, 428, 434, 432), (82, 308, 86, 312), (437, 495, 441, 499), (424, 473, 428, 477), (60, 376, 64, 380), (554, 372, 558, 376), (257, 93, 261, 97), (136, 470, 140, 474), (368, 407, 372, 411), (96, 422, 100, 426), (374, 361, 378, 365), (536, 362, 540, 366), (97, 244, 101, 248), (440, 501, 444, 505), (432, 334, 436, 338), (141, 398, 145, 402), (544, 302, 548, 306), (557, 292, 561, 296), (376, 410, 380, 414), (110, 214, 114, 218), (149, 394, 153, 398), (89, 469, 93, 473), (80, 431, 84, 435), (146, 461, 150, 465), (504, 162, 508, 166), (503, 264, 507, 268), (404, 192, 408, 196), (115, 181, 119, 185), (426, 332, 430, 336), (92, 408, 96, 412), (61, 380, 65, 384), (163, 107, 167, 111), (99, 422, 103, 426), (508, 305, 512, 309), (128, 453, 132, 457), (429, 382, 433, 386), (130, 472, 134, 476), (397, 474, 401, 478), (556, 298, 560, 302), (124, 461, 128, 465), (116, 274, 120, 278), (520, 178, 524, 182), (419, 256, 423, 260), (102, 190, 106, 194), (410, 352, 414, 356), (518, 457, 522, 461), (103, 182, 107, 186), (127, 280, 131, 284), (504, 326, 508, 330), (90, 330, 94, 334), (76, 446, 80, 450), (124, 506, 128, 510), (358, 351, 362, 355), (87, 375, 91, 379), (151, 408, 155, 412), (112, 322, 116, 326), (425, 483, 429, 487), (48, 370, 52, 374), (102, 232, 106, 236), (434, 216, 438, 220), (109, 431, 113, 435), (151, 171, 155, 175), (416, 237, 420, 241), (516, 406, 520, 410), (180, 118, 184, 122), (124, 470, 128, 474), (433, 347, 437, 351), (88, 458, 92, 462), (148, 322, 152, 326), (176, 138, 180, 142), (354, 373, 358, 377), (126, 400, 130, 404), (110, 464, 114, 468), (361, 74, 365, 78), (491, 299, 495, 303), (130, 120, 134, 124), (552, 214, 556, 218), (390, 428, 394, 432), (504, 374, 508, 378), (499, 251, 503, 255), (102, 249, 106, 253), (472, 173, 476, 177), (148, 414, 152, 418), (444, 135, 448, 139), (79, 176, 83, 180), (510, 434, 514, 438), (487, 269, 491, 273), (93, 346, 97, 350), (78, 373, 82, 377), (426, 220, 430, 224), (540, 297, 544, 301), (559, 376, 563, 380), (360, 134, 364, 138), (345, 92, 349, 96), (60, 294, 64, 298), (95, 368, 99, 372), (104, 448, 108, 452), (88, 326, 92, 330), (374, 468, 378, 472), (405, 483, 409, 487), (423, 127, 427, 131), (100, 294, 104, 298), (74, 224, 78, 228), (357, 94, 361, 98), (366, 139, 370, 143), (454, 252, 458, 256), (378, 119, 382, 123), (80, 318, 84, 322), (136, 390, 140, 394), (419, 176, 423, 180), (334, 379, 338, 383), (233, 200, 237, 204), (224, 208, 228, 212), (232, 207, 236, 211), (237, 221, 241, 225), (177, 242, 181, 246), (169, 259, 173, 263), (209, 258, 213, 262), (221, 274, 225, 278), (237, 282, 241, 286), (226, 301, 230, 305), (189, 325, 193, 329), (219, 405, 223, 409), (210, 112, 214, 116), (300, 142, 304, 146), (265, 187, 269, 191), (198, 231, 202, 235), (218, 238, 222, 242), (223, 269, 227, 273), (249, 251, 253, 255), (263, 280, 267, 284), (274, 287, 278, 291), (274, 298, 278, 302), (252, 187, 256, 191), (178, 232, 182, 236), (256, 235, 260, 239), (294, 160, 298, 164), (286, 170, 290, 174), (303, 215, 307, 219), (309, 212, 313, 216), (310, 205, 314, 209), (285, 221, 289, 225), (278, 243, 282, 247), (296, 252, 300, 256), (296, 258, 300, 262), (287, 265, 291, 269), (288, 284, 292, 288), (282, 286, 286, 290), (305, 298, 309, 302), (311, 326, 315, 330), (182, 226, 186, 230), (249, 338, 253, 342), (272, 341, 276, 345), (254, 326, 258, 330), (238, 332, 242, 336), (320, 321, 324, 325), (262, 351, 266, 355), (302, 351, 306, 355), (307, 354, 311, 358), (325, 350, 329, 354), (149, 304, 153, 308), (158, 316, 162, 320), (192, 379, 196, 383), (224, 382, 228, 386), (230, 362, 234, 366), (222, 355, 226, 359), (200, 388, 204, 392), (140, 376, 144, 380), (248, 434, 252, 438), (252, 434, 256, 438), (198, 359, 202, 363), (193, 360, 197, 364), (258, 366, 262, 370), (239, 386, 243, 390), (270, 392, 274, 396), (218, 424, 222, 428), (170, 426, 174, 430), (278, 425, 282, 429), (314, 412, 318, 416), (291, 437, 295, 441), (222, 440, 226, 444), (300, 363, 304, 367), (332, 344, 336, 348), (230, 454, 234, 458), (228, 460, 232, 464), (204, 466, 208, 470), (238, 472, 242, 476), (244, 500, 248, 504), (333, 498, 337, 502), (322, 202, 326, 206), (329, 208, 333, 212), (344, 195, 348, 199), (353, 189, 357, 193), (353, 195, 357, 199), (303, 147, 307, 151), (302, 65, 306, 69), (348, 291, 352, 295), (352, 294, 356, 298), (375, 391, 379, 395), (361, 382, 365, 386), (288, 487, 292, 491), (292, 487, 296, 491), (310, 485, 314, 489), (300, 422, 304, 426), (386, 401, 390, 405), (426, 397, 430, 401), (412, 422, 416, 426), (329, 453, 333, 457), (324, 454, 328, 458), (307, 446, 311, 450), (316, 439, 320, 443), (346, 510, 350, 514), (324, 552, 328, 556), (354, 588, 362, 590), (296, 494, 300, 498), (297, 489, 301, 493), (224, 349, 228, 353), (210, 79, 214, 83), (192, 501, 196, 505), (235, 544, 239, 548), (219, 521, 223, 525), (281, 540, 285, 544), (176, 486, 180, 490), (193, 491, 197, 495), (196, 496, 200, 500), (214, 480, 218, 484), (258, 484, 262, 488), (254, 477, 258, 481), (259, 473, 263, 477), (294, 510, 298, 514), (156, 488, 160, 492), (300, 465, 304, 469), (298, 514, 302, 518), (264, 524, 268, 528), (264, 533, 268, 537), (280, 448, 284, 452), (195, 557, 199, 561), (286, 420, 290, 424), (283, 423, 287, 427), (282, 428, 286, 432), (197, 538, 201, 542), (534, 291, 538, 295), (518, 332, 522, 336), (526, 349, 530, 353), (509, 314, 513, 318), (454, 458, 458, 462), (448, 450, 452, 454), (451, 539, 455, 543), (556, 421, 560, 425), (570, 292, 574, 296), (236, 559, 240, 563), (102, 484, 106, 488), (118, 402, 122, 406), (48, 314, 52, 318), (110, 448, 114, 452), (74, 310, 78, 314), (71, 313, 75, 317), (78, 312, 82, 316), (384, 64, 388, 68), (113, 213, 117, 217), (133, 511, 137, 515), (186, 556, 190, 560), (150, 475, 154, 479), (158, 451, 162, 455), (92, 323, 96, 327), (150, 397, 154, 401), (181, 468, 185, 472), (182, 476, 186, 480), (180, 418, 184, 422), (260, 447, 264, 451), (253, 464, 257, 468), (281, 486, 285, 490), (53, 343, 57, 347), (120, 466, 124, 469), (401, 498, 404, 502), (112, 379, 115, 383), (217, 214, 220, 218), (159, 252, 163, 255), (223, 411, 227, 414), (190, 414, 193, 418), (222, 258, 225, 262), (154, 235, 158, 238), (232, 344, 235, 348), (205, 312, 208, 316), (100, 396, 104, 399), (165, 452, 168, 456), (264, 381, 268, 384), (243, 386, 247, 389), (277, 386, 281, 389), (261, 416, 265, 419), (258, 426, 262, 429), (300, 366, 304, 369), (200, 465, 203, 469), (240, 494, 243, 498), (336, 308, 339, 312), (294, 471, 298, 474), (386, 310, 389, 314), (401, 392, 404, 396), (338, 511, 342, 514), (361, 570, 364, 574), (398, 215, 402, 218), (225, 144, 228, 148), (351, 222, 355, 225), (580, 341, 584, 344), (120, 401, 124, 404), (125, 474, 128, 478), (80, 300, 86, 302), (78, 237, 82, 240), (225, 202, 228, 205), (217, 416, 220, 419), (217, 441, 220, 444), (361, 376, 364, 379), (326, 431, 329, 434), (424, 340, 426, 344), (578, 338, 582, 340), (526, 298, 530, 300), (499, 498, 503, 500), (452, 448, 456, 450), (68, 228, 72, 230), (386, 148, 388, 152), (140, 260, 142, 264), (540, 342, 544, 344), (386, 487, 388, 491), (94, 451, 96, 455), (458, 445, 460, 449), (391, 242, 395, 244), (88, 256, 90, 260), (492, 148, 494, 152), (125, 352, 129, 354), (123, 198, 127, 200), (76, 297, 78, 301), (398, 370, 402, 372), (81, 258, 85, 260), (392, 333, 394, 337), (193, 372, 197, 374), (270, 297, 272, 301), (304, 186, 308, 188), (310, 197, 312, 201), (298, 318, 300, 322), (305, 322, 309, 324), (260, 330, 264, 332), (280, 276, 284, 278), (276, 272, 278, 276), (304, 274, 308, 276), (232, 336, 236, 338), (252, 320, 254, 324), (258, 352, 262, 354), (322, 346, 326, 348), (162, 348, 164, 352), (150, 374, 152, 378), (214, 383, 216, 387), (160, 428, 162, 432), (140, 382, 142, 386), (150, 445, 154, 447), (192, 448, 194, 452), (174, 386, 176, 390), (198, 366, 202, 368), (274, 376, 278, 378), (254, 364, 256, 368), (188, 353, 192, 355), (235, 406, 239, 408), (271, 388, 275, 390), (274, 426, 276, 430), (212, 435, 214, 439), (200, 440, 204, 442), (256, 468, 260, 470), (268, 467, 270, 471), (226, 495, 228, 499), (324, 256, 328, 258), (367, 350, 371, 352), (374, 388, 378, 390), (346, 438, 348, 442), (306, 428, 308, 432), (334, 472, 336, 476), (288, 458, 292, 460), (290, 498, 292, 502), (362, 438, 366, 440), (340, 280, 342, 284), (344, 456, 346, 460), (310, 442, 312, 446), (312, 438, 316, 440), (296, 528, 300, 530), (408, 372, 410, 376), (164, 474, 166, 478), (178, 472, 180, 476), (234, 528, 238, 530), (220, 526, 222, 530), (258, 556, 260, 560), (268, 536, 270, 540), (268, 487, 270, 491), (198, 484, 200, 488), (268, 484, 270, 488), (270, 564, 274, 566), (188, 540, 190, 544), (188, 454, 190, 458), (442, 284, 444, 288), (412, 356, 416, 358), (420, 369, 422, 373), (548, 274, 550, 278), (526, 338, 530, 340), (526, 368, 528, 372), (422, 208, 424, 212), (464, 312, 468, 314), (574, 294, 576, 298), (124, 418, 128, 420), (92, 294, 96, 296), (160, 448, 164, 450), (134, 352, 136, 356), (141, 426, 145, 428), (108, 412, 110, 416), (260, 444, 264, 446), (284, 472, 286, 476), (125, 415, 128, 417), (420, 471, 422, 474), (112, 266, 115, 268), (348, 366, 350, 369), (250, 284, 253, 286), (242, 240, 244, 243), (302, 180, 304, 183), (302, 185, 304, 188), (288, 220, 290, 223), (156, 230, 158, 233), (154, 227, 156, 230), (236, 346, 238, 349), (230, 322, 233, 324), (230, 326, 232, 329), (148, 446, 150, 449), (210, 428, 213, 430), (286, 411, 288, 414), (235, 462, 238, 464), (250, 466, 253, 468), (248, 491, 250, 494), (361, 356, 363, 359), (348, 421, 350, 424), (309, 436, 311, 439), (292, 491, 294, 494), (431, 450, 434, 452), (441, 442, 444, 444), (421, 326, 424, 328), (391, 380, 394, 382), (172, 466, 174, 469), (242, 540, 245, 542), (276, 476, 278, 479), (106, 401, 108, 404), (406, 206, 409, 208), (98, 398, 100, 400), (148, 384, 150, 386), (78, 242, 80, 244), (143, 382, 145, 384), (384, 360, 386, 362), (464, 446, 466, 448), (554, 372, 556, 374), (120, 208, 122, 210), (328, 396, 330, 398), (212, 318, 214, 320), (300, 146, 302, 148), (166, 240, 168, 242), (200, 378, 202, 380), (224, 380, 226, 382), (184, 432, 186, 434), (164, 414, 166, 416), (98, 404, 100, 406), (117, 432, 119, 434), (202, 418, 204, 420), (230, 429, 232, 431), (228, 430, 230, 432), (260, 406, 262, 408), (268, 418, 270, 420), (265, 444, 267, 446), (261, 465, 263, 467), (204, 458, 206, 460), (360, 432, 362, 434), (330, 438, 332, 440), (322, 445, 324, 447), (336, 464, 338, 466), (309, 460, 311, 462), (385, 315, 387, 317), (422, 324, 424, 326), (321, 452, 323, 454), (290, 542, 292, 544), (340, 172, 342, 174), (348, 174, 350, 176), (186, 482, 188, 484), (190, 491, 192, 493), (248, 530, 250, 532), (246, 512, 248, 514), (294, 516, 296, 518), (268, 566, 270, 568), (460, 484, 462, 486), (446, 480, 448, 482), (520, 330, 522, 332), (478, 400, 480, 402), (119, 400, 121, 402), (123, 408, 125, 410), (472, 260, 474, 262), (142, 522, 144, 524), (148, 478, 150, 480), (77, 248, 79, 250), (155, 458, 157, 460), (232, 563, 234, 565)
